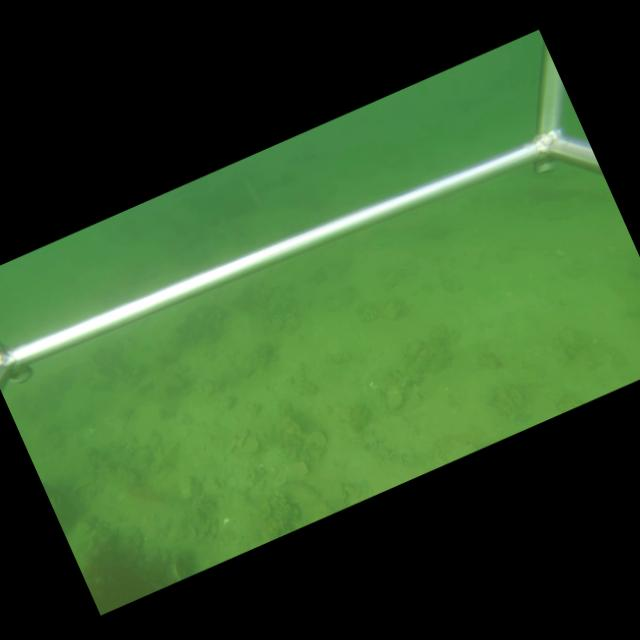Oyster-Closed: (386, 383, 405, 410)
Oyster-Indeterminate: (382, 300, 404, 322)
